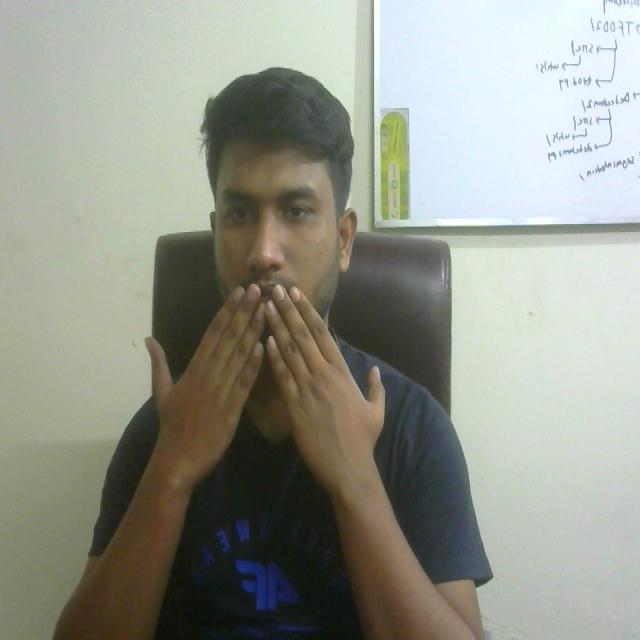Hello: (124, 269, 408, 499)
